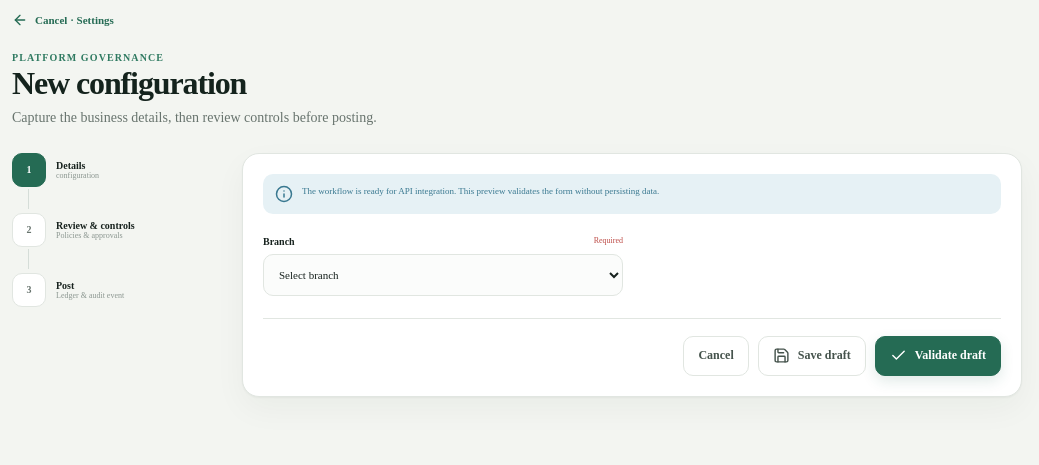
Test: CreateRecordView › renders localized select options and validates the draft
Select "Dar es Salaam HQ" in the dropdown labelled "Branch Required" at (443,275), box top-left (263, 254), bottom-right (623, 296)
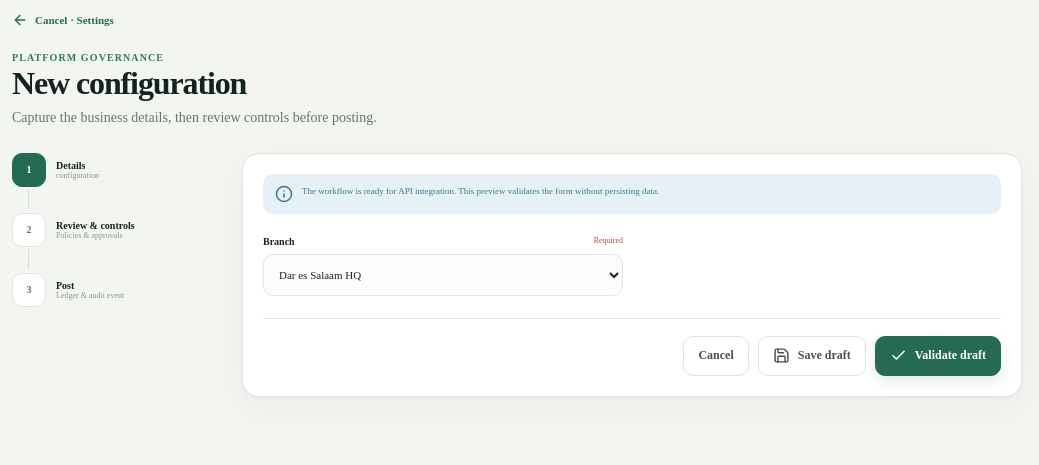
Click the button "Validate draft" at (938,356), box top-left (875, 336), bottom-right (1001, 376)
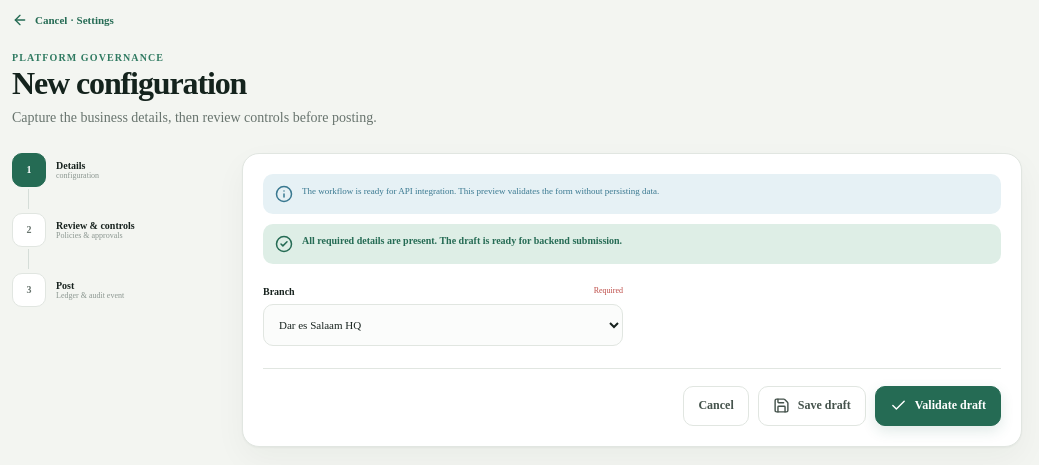
Result: the message shows "ready for backend submission" at top-left (302, 235), bottom-right (622, 246)
